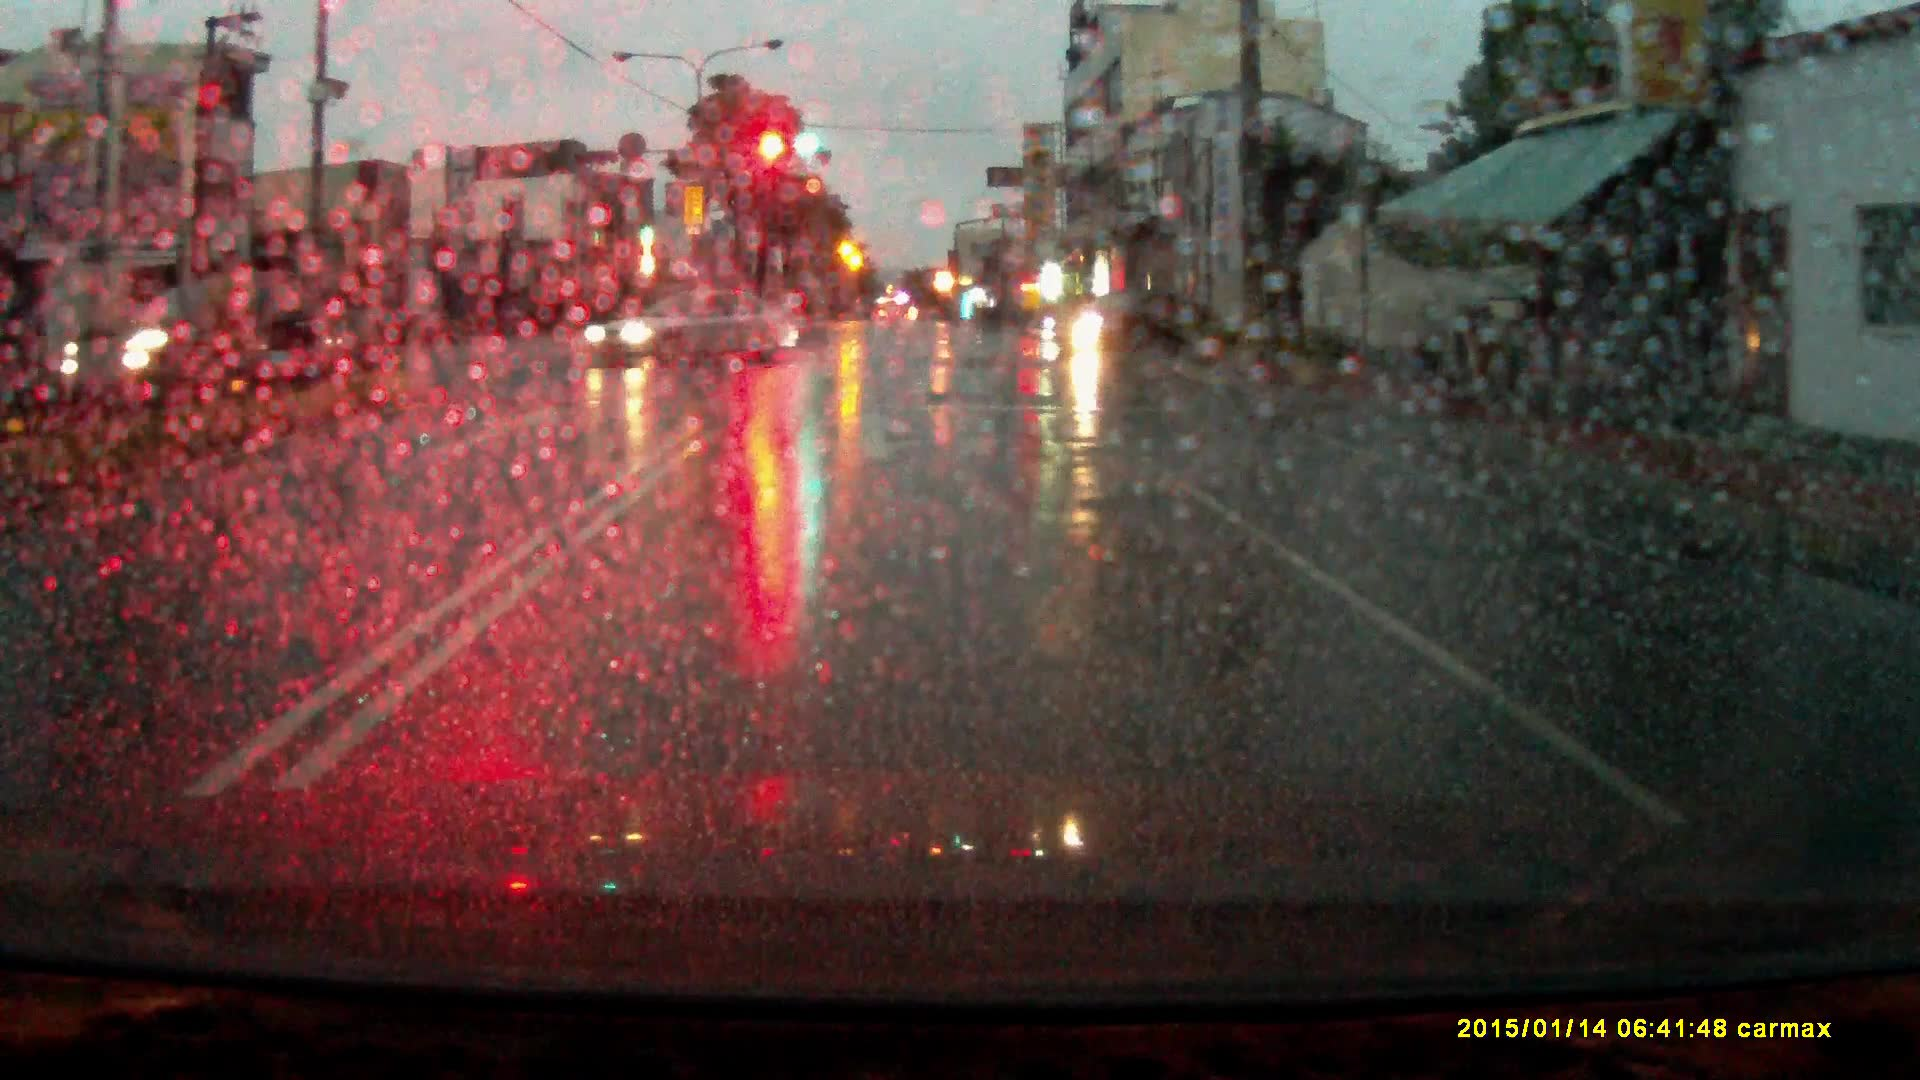vehicle: (102, 269, 364, 378), (582, 284, 803, 368), (1044, 294, 1215, 356)
